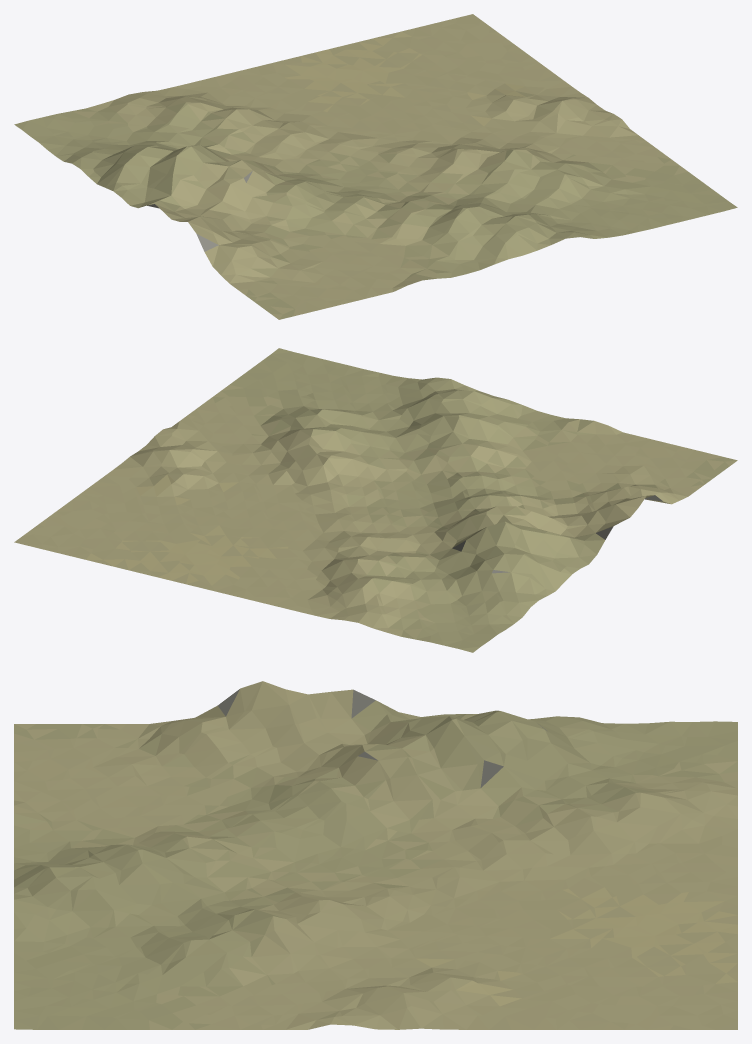
Rendered from Ground_3_-4.glb.
The picture shows the model from 3 angles, top to bottom: view 1: azimuth 30°, elevation 25°; view 2: azimuth 150°, elevation 25°; view 3: azimuth 270°, elevation 25°; orthographic projection. The views are drawn at different scales.
Parts seen in each view (by area): view 1: Ground_3_-4; view 2: Ground_3_-4; view 3: Ground_3_-4.
Part boxes in pixels (bbox=[...]): Ground_3_-4: bbox=[14, 14, 737, 319]; Ground_3_-4: bbox=[14, 348, 737, 652]; Ground_3_-4: bbox=[14, 681, 737, 1029].
Bounding box in the file's own units: 768 × 61.46 × 768.
